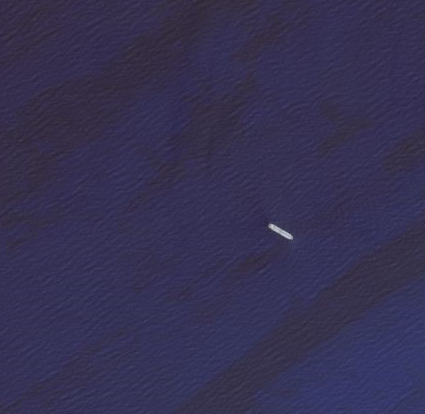ship: (265, 222, 296, 244)
